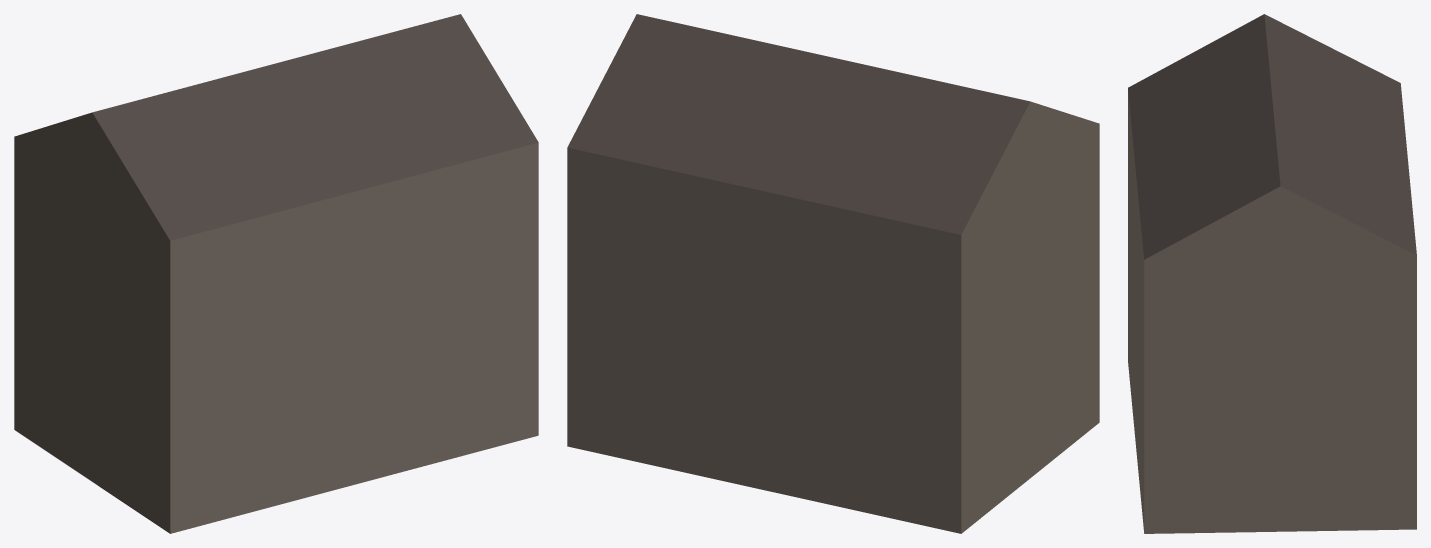
3 views of the same model, side by side, from view 1: azimuth 30°, elevation 25°; view 2: azimuth 150°, elevation 25°; view 3: azimuth 270°, elevation 25° (orthographic). The views are drawn at different scales.
Visible parts, largest first — view 1: HP-w1424106419; view 2: HP-w1424106419; view 3: HP-w1424106419.
Boxes of the visible parts, left/top/right/bottom form: HP-w1424106419: left=14, top=14, right=538, bottom=533; HP-w1424106419: left=567, top=14, right=1099, bottom=533; HP-w1424106419: left=1128, top=14, right=1416, bottom=533.
Size of the model in its own units: 8.3 by 7.56 by 5.73.
